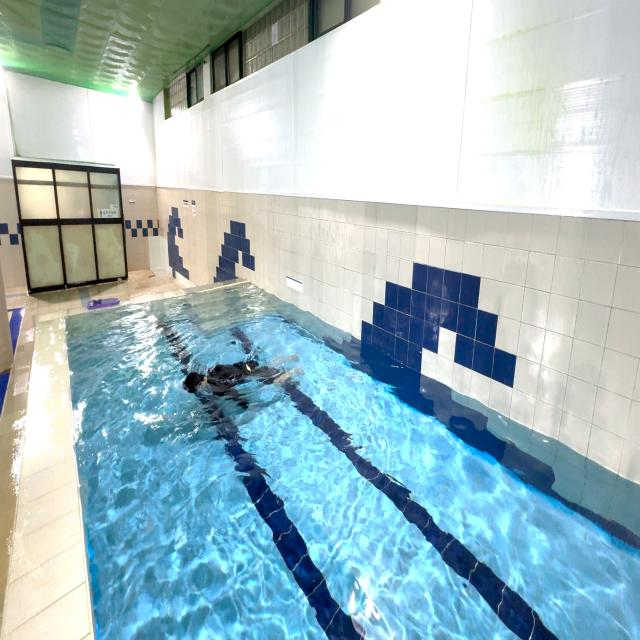Drowning: (174, 340, 317, 413)
